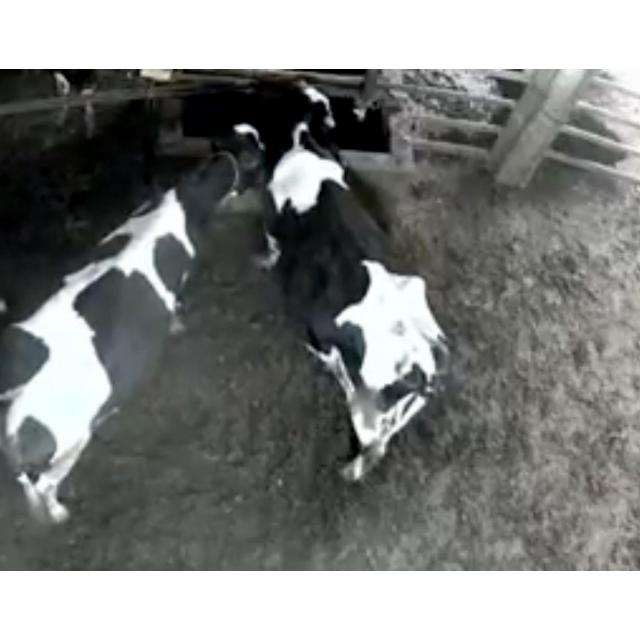drink: (262, 72, 372, 174)
